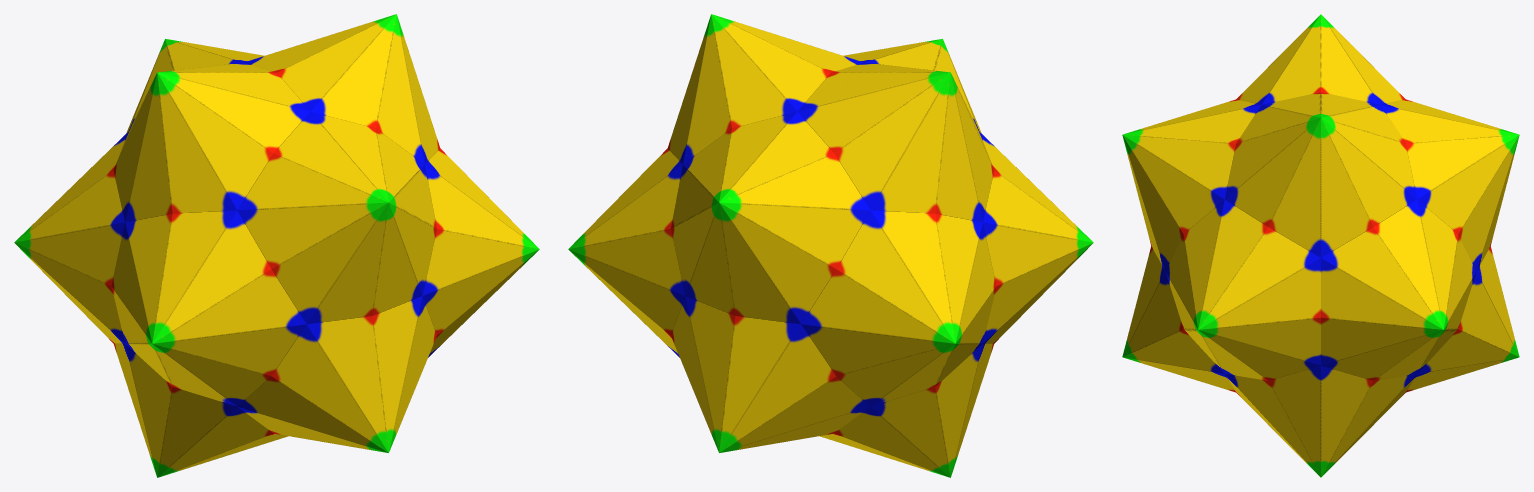
Rendered from small-dodecacronic-hexecontahedron.gltf.
The picture shows the model from 3 angles, left to right: view 1: azimuth 30°, elevation 25°; view 2: azimuth 150°, elevation 25°; view 3: azimuth 270°, elevation 25°; orthographic projection. The views are drawn at different scales.
Parts seen in each view (by area): view 1: Small Dodecacronic Hexecontahedron (Dual of 5.10.3/2.10), WD; view 2: Small Dodecacronic Hexecontahedron (Dual of 5.10.3/2.10), WD; view 3: Small Dodecacronic Hexecontahedron (Dual of 5.10.3/2.10), WD.
Boxes of the visible parts, <box> form: Small Dodecacronic Hexecontahedron (Dual of 5.10.3/2.10), WD: <box>14,14,539,477</box>; Small Dodecacronic Hexecontahedron (Dual of 5.10.3/2.10), WD: <box>568,14,1093,477</box>; Small Dodecacronic Hexecontahedron (Dual of 5.10.3/2.10), WD: <box>1122,14,1519,477</box>.
Bounding box in the file's own units: 32.49 × 32.49 × 32.49.
1 material, 1 textured.
